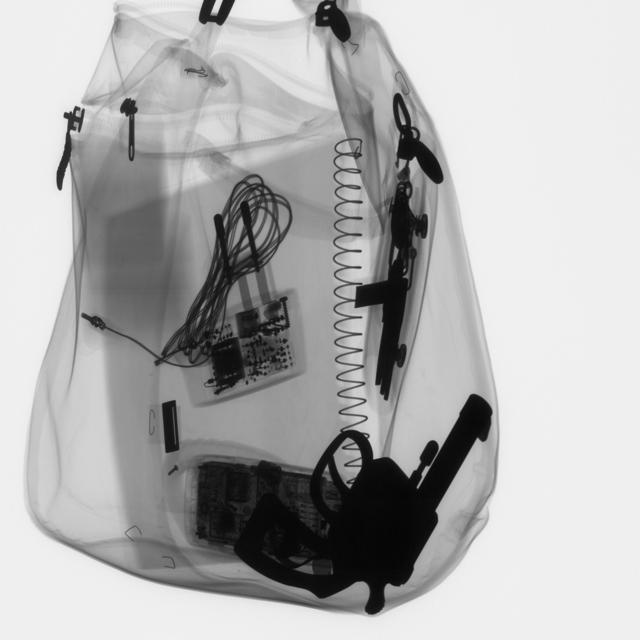gun: (230, 396, 496, 605)
